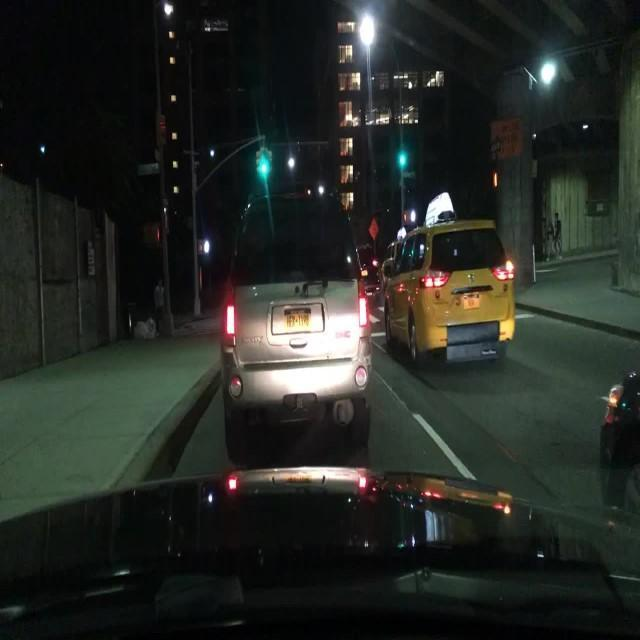normal: (174, 165, 386, 466), (380, 217, 519, 367)
